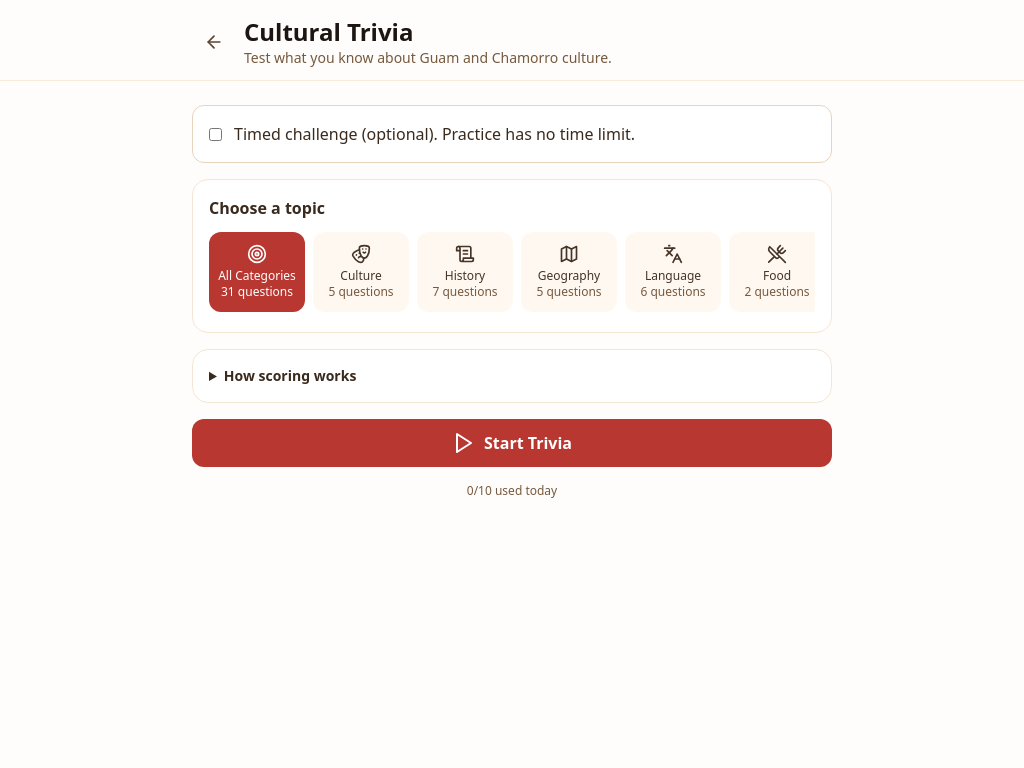
it: challenge game screens › uses selected-state semantics and an in-app leave guard for Cultural Trivia
Expected: the heading "Cultural Trivia" is shown, [244, 15, 413, 48]
Click the checkbox labelled "Timed challenge (optional). Practice has no time limit.". click: x=216, y=134
box: [209, 128, 222, 140]
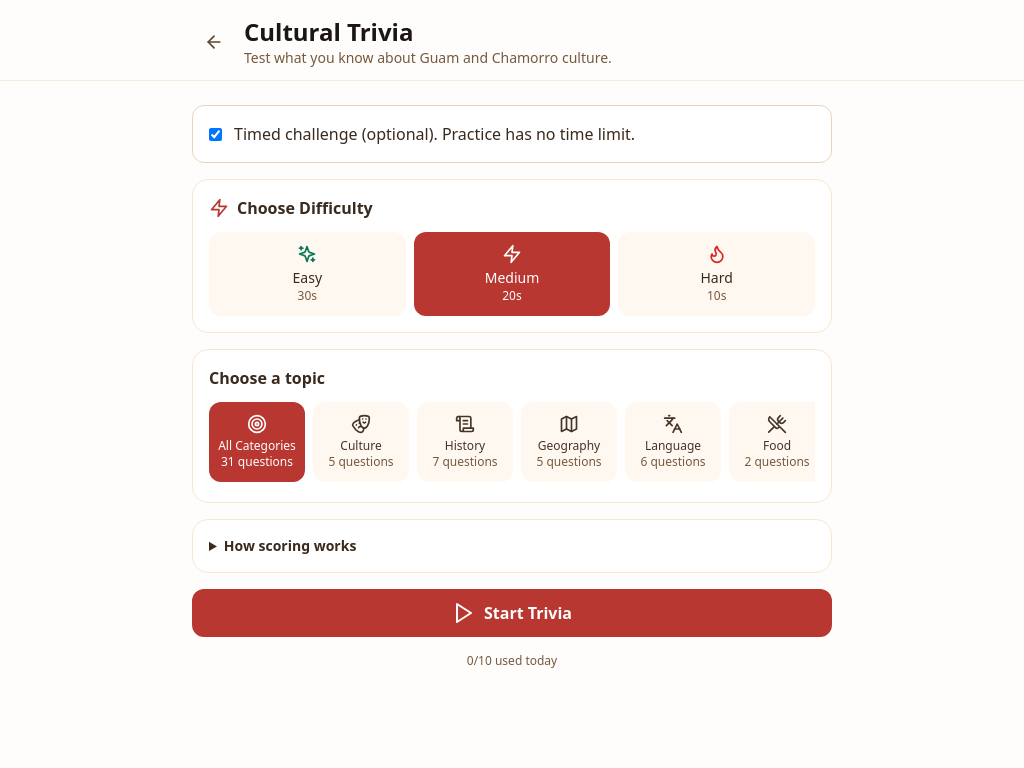
Click the button "Start Trivia". click: x=512, y=613
box: [192, 589, 832, 637]
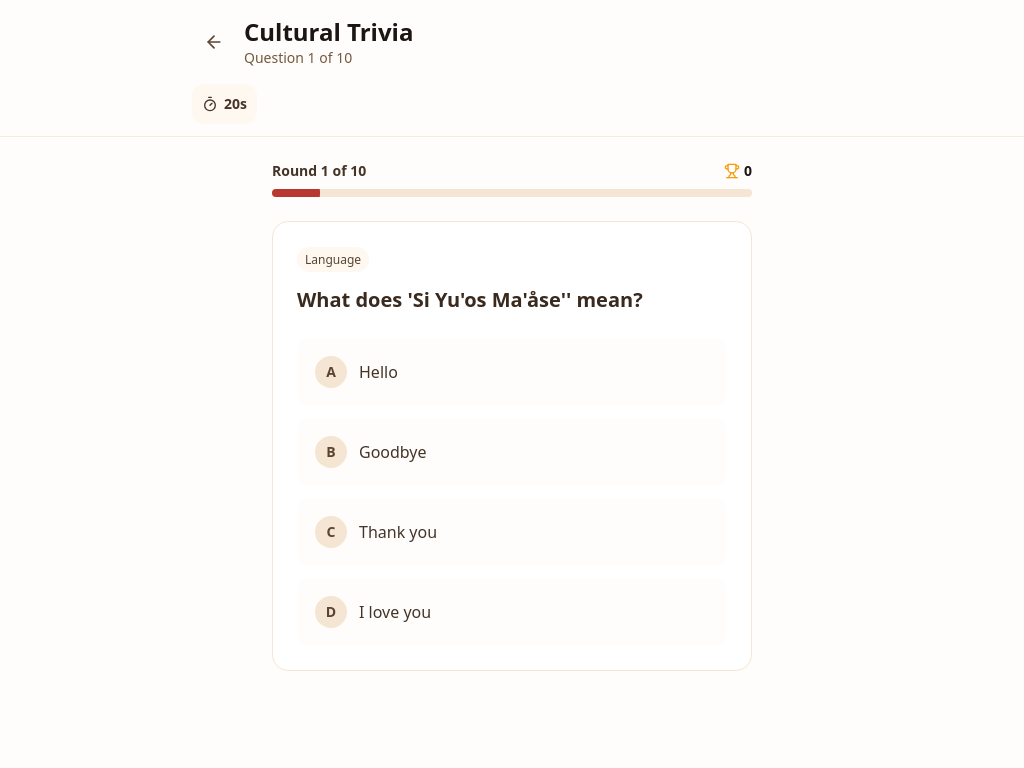
Expected: the text "Question 1 of 10" is shown, [244, 48, 352, 67]
Click the button named "Back to games". click: x=214, y=42
box: [192, 20, 236, 64]
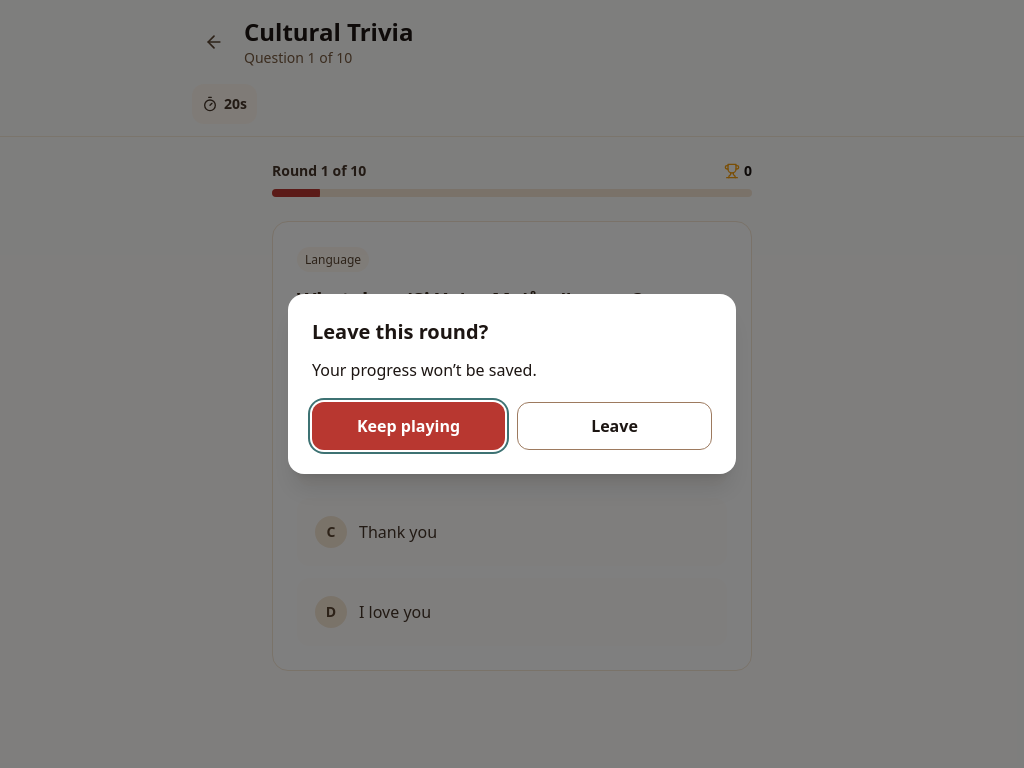
Expected: the element named "seconds remaining" reads "20s", [224, 94, 247, 113]
Expected: the heading "Leave this round?" is shown, [312, 318, 488, 345]
Click the button "Keep playing". click: x=408, y=426
box: [312, 402, 505, 450]
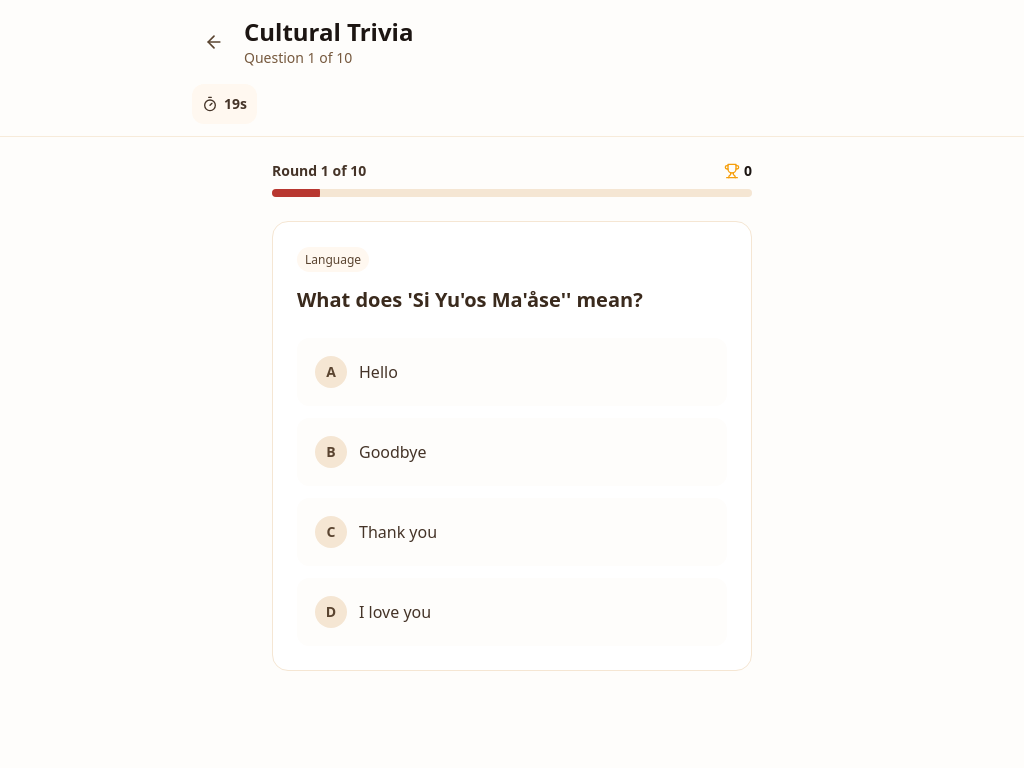
Expected: the field labelled "seconds remaining" no longer shows "20s"
